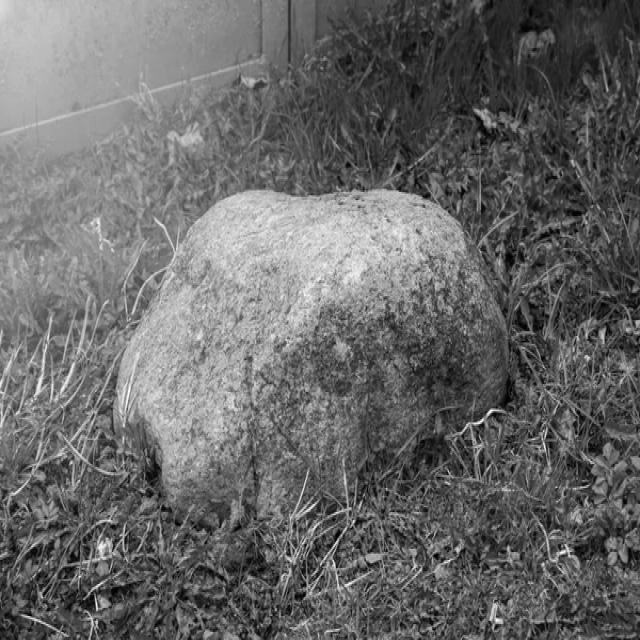Stone: (114, 189, 510, 516)
